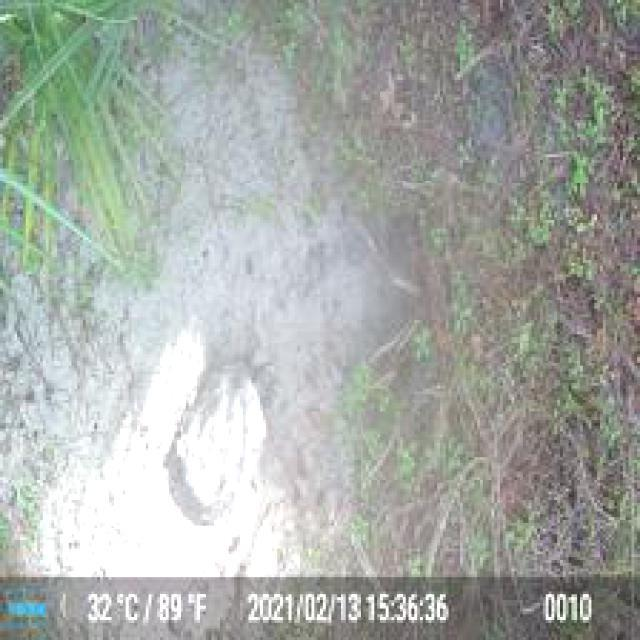tortoise: (157, 357, 277, 529)
